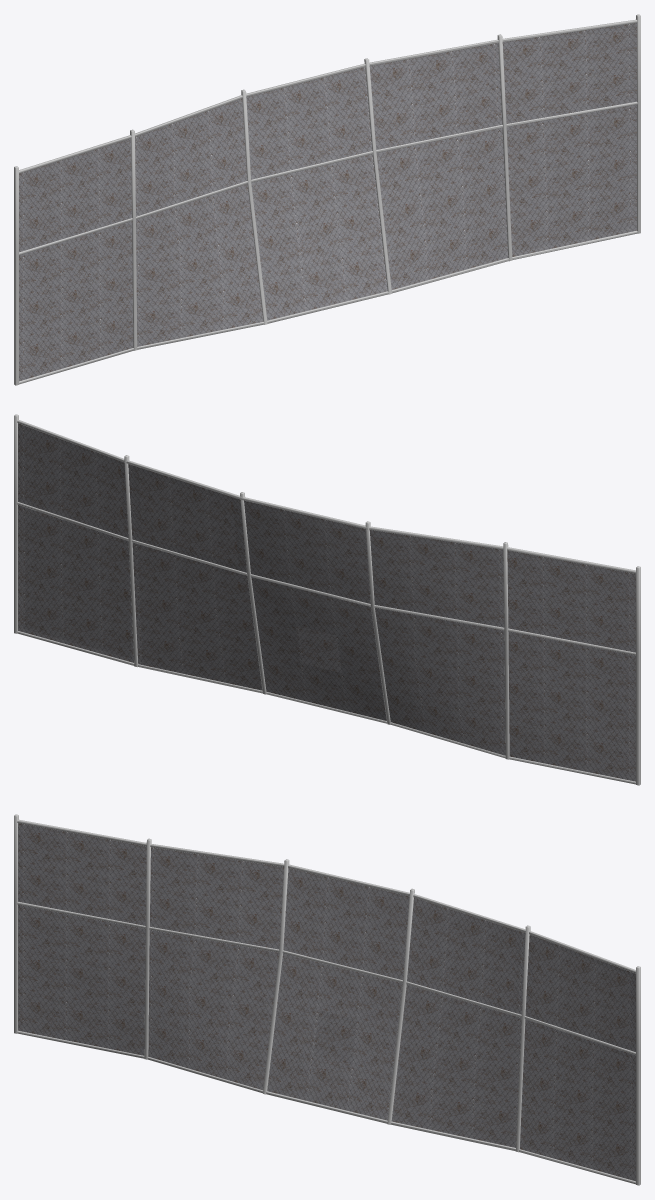
The model's file is ChainFence01_2.FBX.
The picture shows the model from 3 angles, top to bottom: view 1: azimuth 30°, elevation 25°; view 2: azimuth 150°, elevation 25°; view 3: azimuth 330°, elevation 25°; orthographic projection.
Visible parts, largest first — view 1: ChainFence01_2; view 2: ChainFence01_2; view 3: ChainFence01_2.
Part boxes in pixels (x1,y1,x2,y2): ChainFence01_2: [14, 14, 640, 385]; ChainFence01_2: [14, 414, 640, 785]; ChainFence01_2: [14, 814, 640, 1185].
Bounding box in the file's own units: 1221 × 406 × 84.07.
